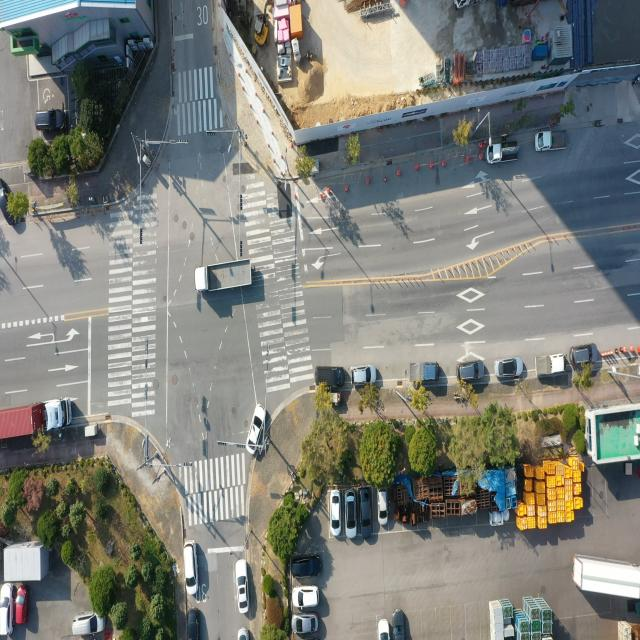car: (246, 403, 266, 454), (71, 613, 105, 640), (0, 582, 15, 634), (36, 108, 68, 132), (184, 541, 198, 595), (317, 364, 348, 388), (292, 556, 321, 580), (495, 356, 524, 380), (237, 561, 249, 614), (570, 344, 598, 366), (359, 489, 372, 536), (350, 363, 376, 386), (458, 360, 484, 382), (346, 492, 358, 539), (331, 492, 343, 538), (294, 588, 318, 610), (15, 586, 28, 626), (293, 616, 317, 636), (392, 609, 406, 640), (186, 608, 199, 640), (378, 492, 389, 525), (380, 620, 391, 640), (238, 628, 251, 640)
large_truck: (0, 400, 71, 445)
medium_truck: (573, 555, 640, 599), (194, 263, 253, 295), (454, 0, 488, 10)
small_truck: (536, 353, 568, 378), (407, 359, 440, 383), (486, 142, 519, 165), (536, 131, 569, 154)
